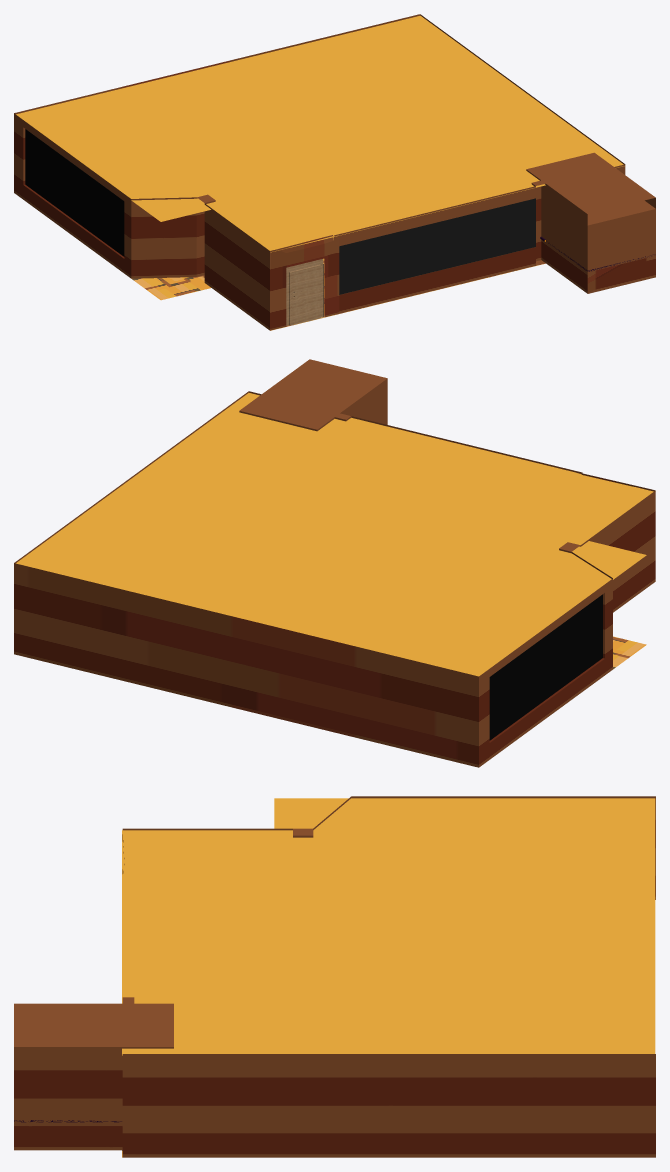
File: Kitchen.fbx
The picture shows the model from 3 angles, top to bottom: view 1: azimuth 30°, elevation 25°; view 2: azimuth 150°, elevation 25°; view 3: azimuth 270°, elevation 25°; orthographic projection. The views are drawn at different scales.
Visible parts, largest first — view 1: Plane.007, Plane, Plane.001, Plane.004, Plane.005, Plane.006; view 2: Plane.007, Plane, Plane.004, Plane.006; view 3: Plane.007, Plane.
Boxes of the visible parts, x1=… form: Plane.007: x1=16, y1=15, x2=625, y2=252; Plane: x1=14, y1=14, x2=655, y2=330; Plane.001: x1=339, y1=198, x2=535, y2=294; Plane.004: x1=25, y1=129, x2=124, y2=256; Plane.005: x1=286, y1=259, x2=323, y2=325; Plane.006: x1=131, y1=237, x2=545, y2=330; Plane.007: x1=16, y1=393, x2=653, y2=676; Plane: x1=14, y1=359, x2=655, y2=767; Plane.004: x1=489, y1=594, x2=602, y2=740; Plane.006: x1=613, y1=636, x2=646, y2=669; Plane.007: x1=122, y1=798, x2=655, y2=1055; Plane: x1=14, y1=796, x2=655, y2=1157.
Size of the model in its own units: 1600 by 300 by 1686.
